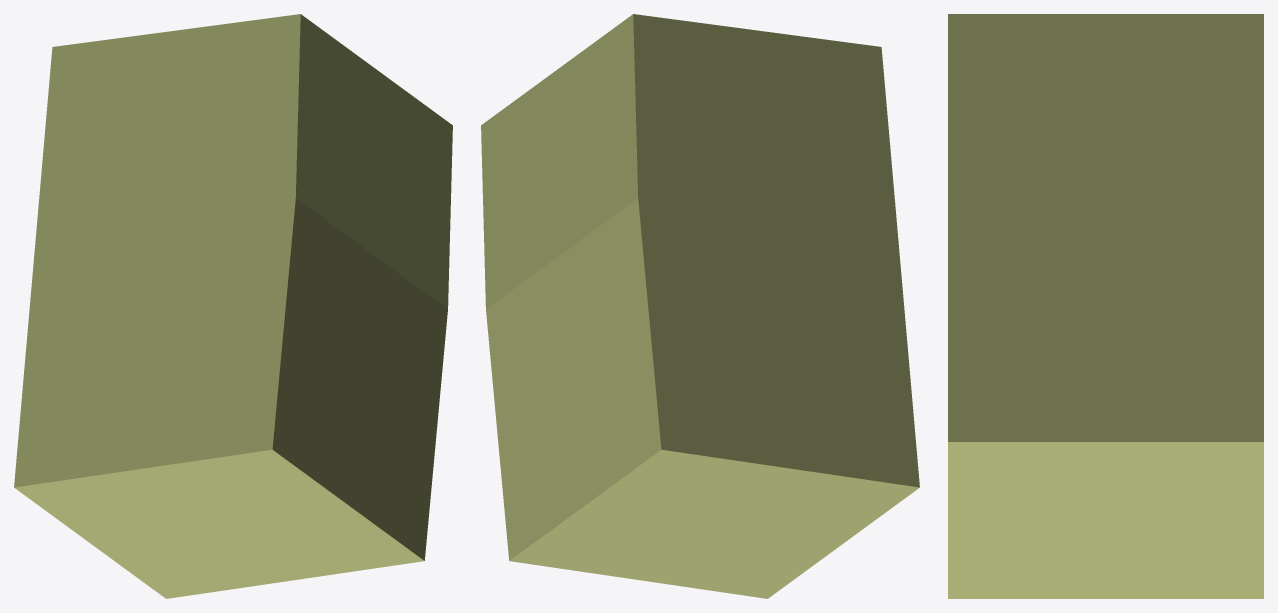
3 renders of one model, left to right at view 1: azimuth 30°, elevation 25°; view 2: azimuth 150°, elevation 25°; view 3: azimuth 270°, elevation 25°, orthographic. The views are drawn at different scales.
Visible parts, largest first — view 1: 0_3_0_1_2_2_2_1_0_0; view 2: 0_3_0_1_2_2_2_1_0_0; view 3: 0_3_0_1_2_2_2_1_0_0.
Boxes of the visible parts, box(x1,y1,x2,y2) form: 0_3_0_1_2_2_2_1_0_0: box(14, 14, 452, 598); 0_3_0_1_2_2_2_1_0_0: box(481, 14, 919, 598); 0_3_0_1_2_2_2_1_0_0: box(948, 14, 1263, 598).
Bounding box in the file's own units: 6.52 × 9.92 × 6.
